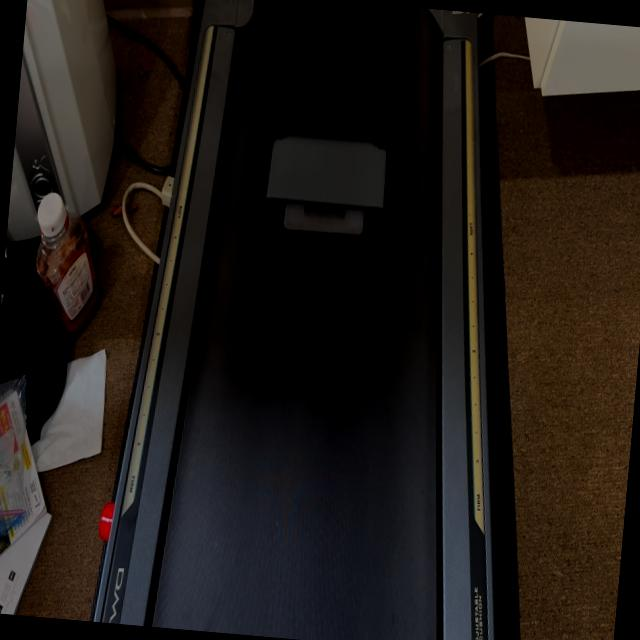Trash: (264, 132, 393, 237)
